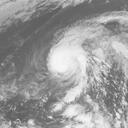cyclone: (47, 31, 106, 88)
